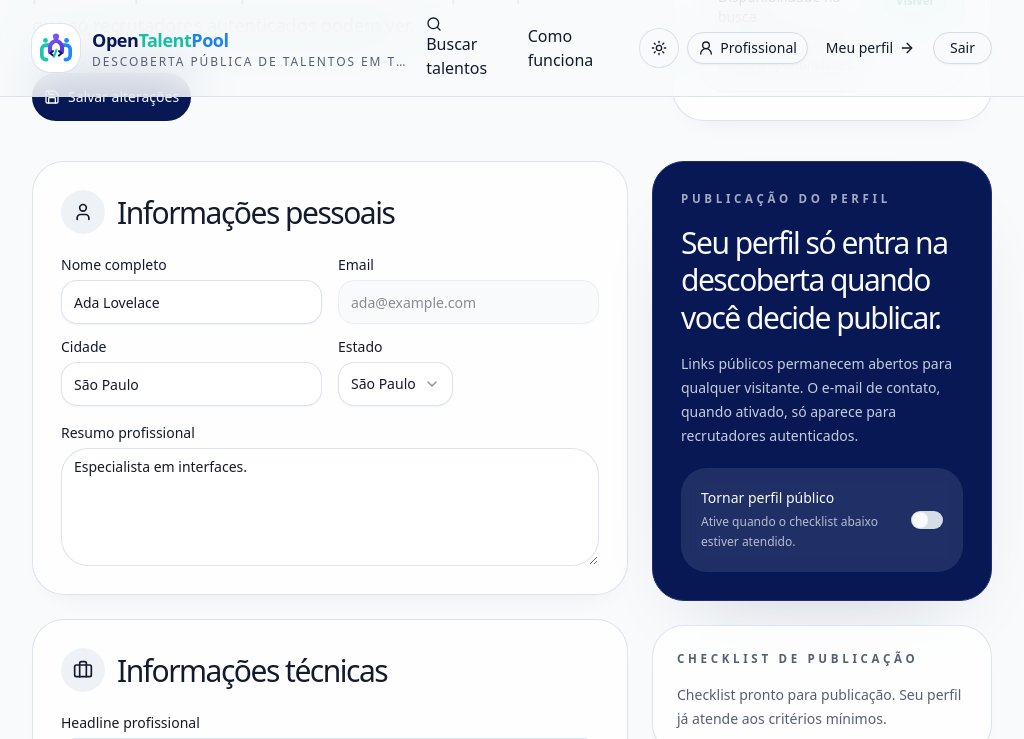
Test case: Dashboard › limpa o rascunho local após save bem-sucedido quando não restam pendências auxiliares
The image size is (1024, 739).
(page scrolled)
Replace the text in the field labelled "Cidade" with "Recife": [192, 384] box [61, 362, 322, 406]
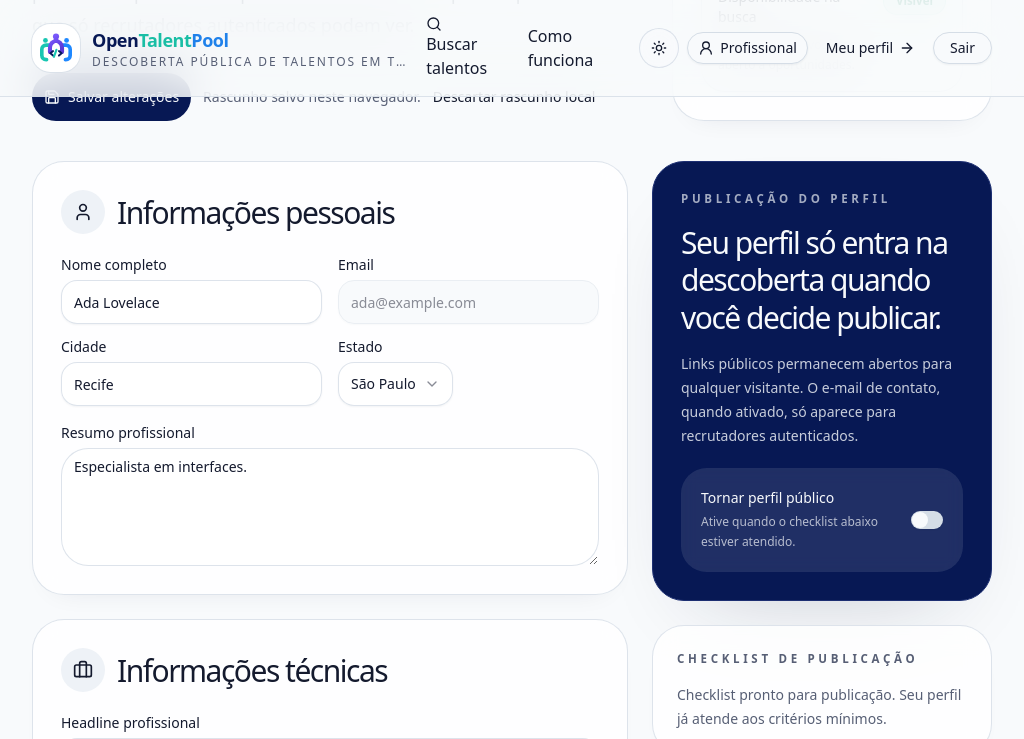
Click the button "Salvar alterações": [112, 97] box [32, 73, 191, 121]
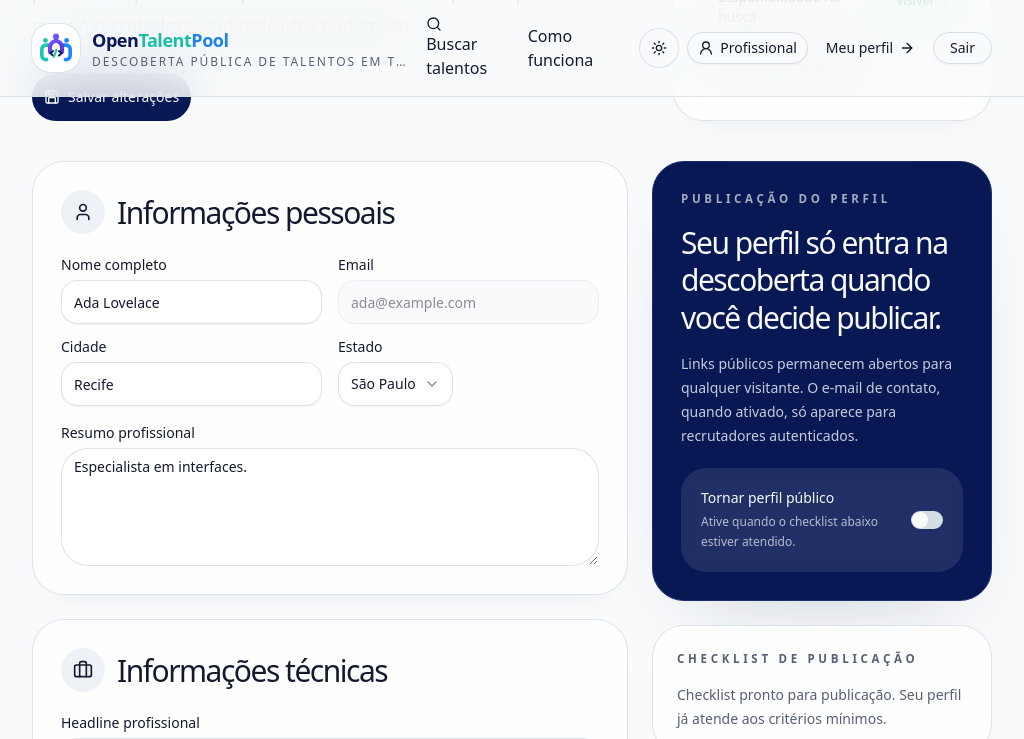
Now the text "Rascunho salvo neste navegador" is gone
